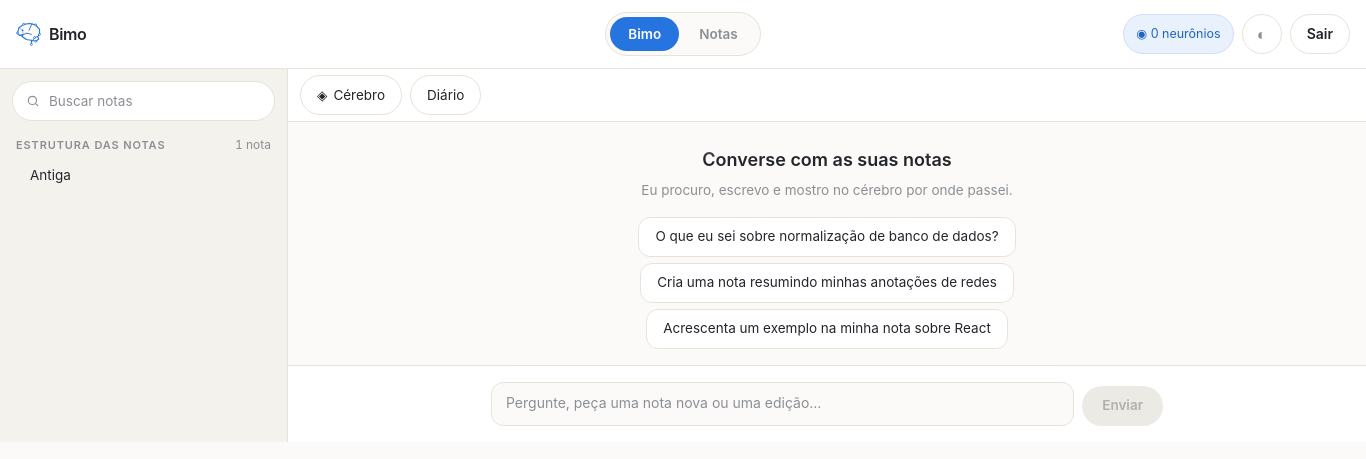
Test: capacidades atualizadas bloqueiam o botão Nova nota sem POST
Click the button "Notas" at (718, 34), box [681,17,756,51]
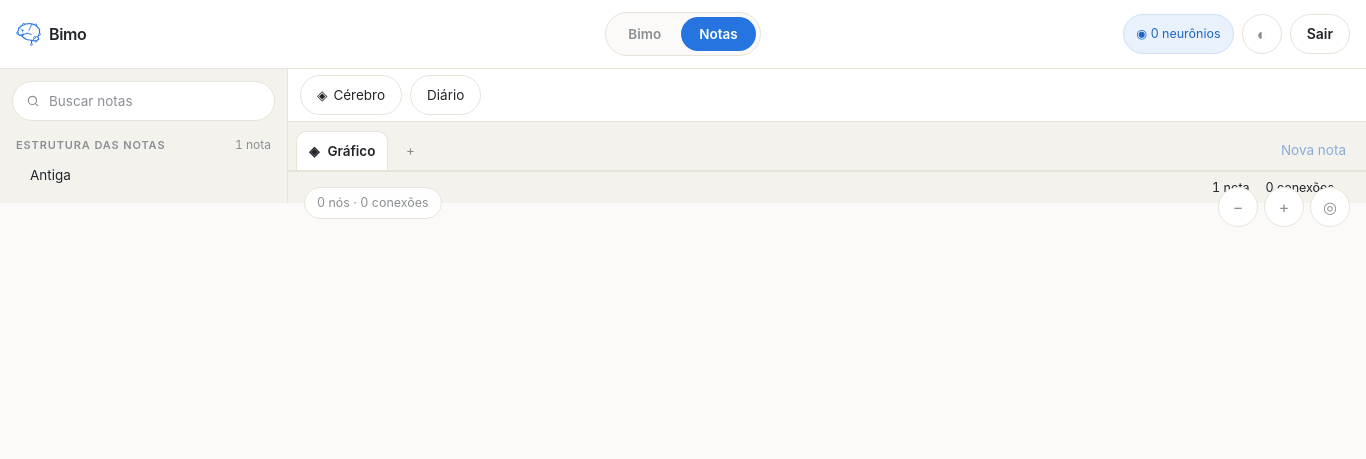
Click the button "Nova nota" at (1314, 150), box [1269,130,1358,170]
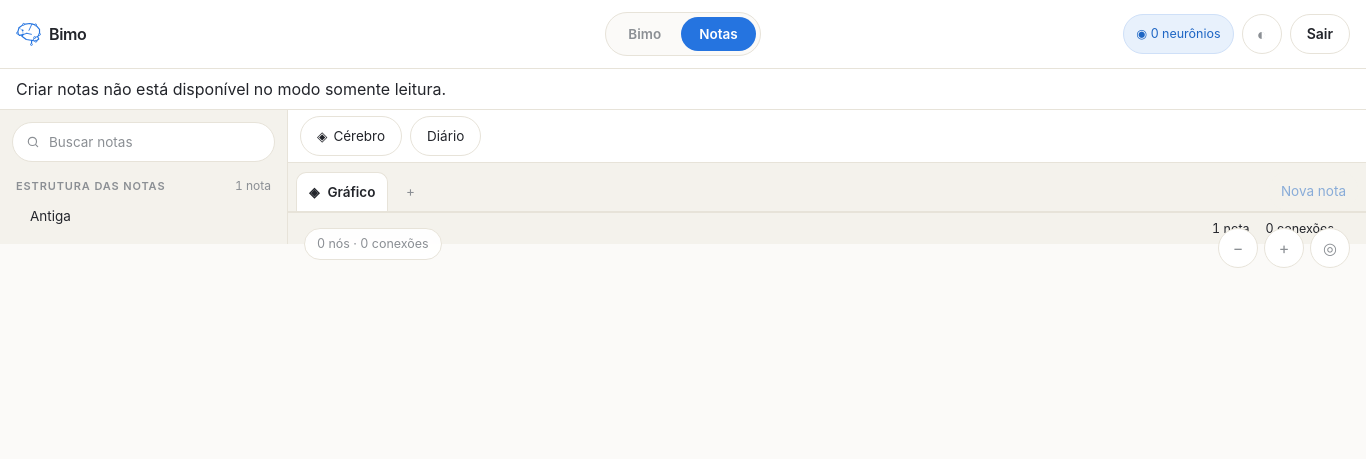
Expected: the message shows "modo somente leitura", [16,79,446,99]
